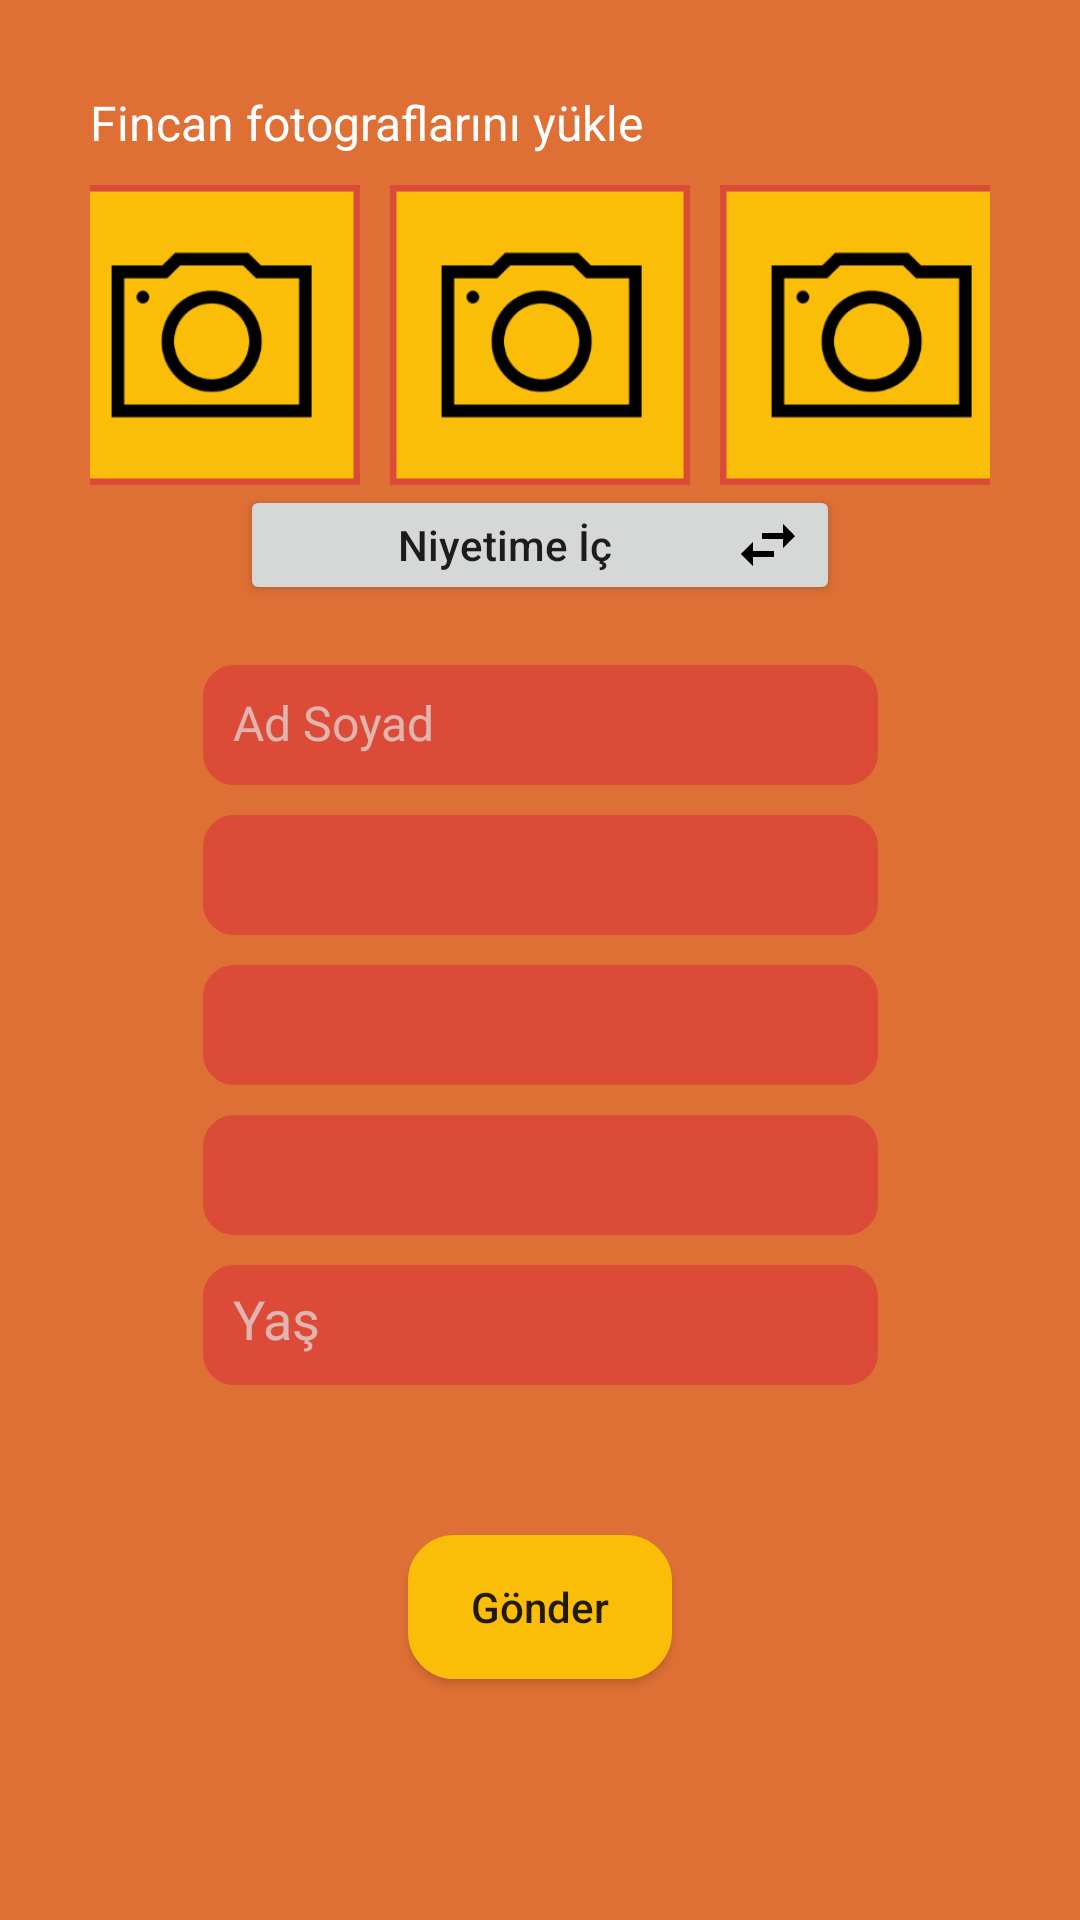

Icons on this 1080px x 1920px Android screen, each with its box as (x1, y1, x2, y2):
camera: (90, 185, 360, 485), (390, 185, 690, 485), (720, 185, 990, 485)
